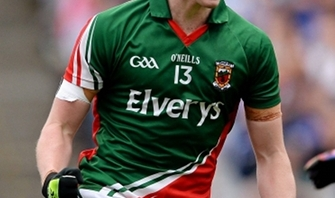player: (42, 0, 293, 195)
